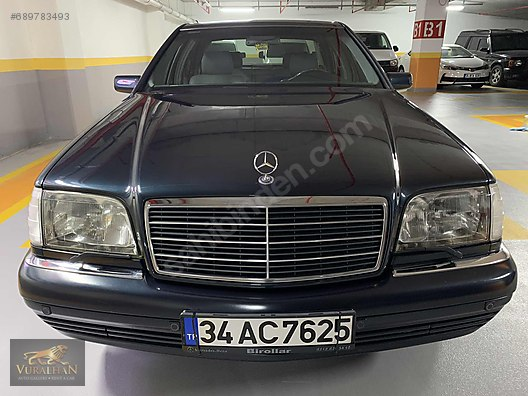mercedes: (24, 14, 523, 358)
